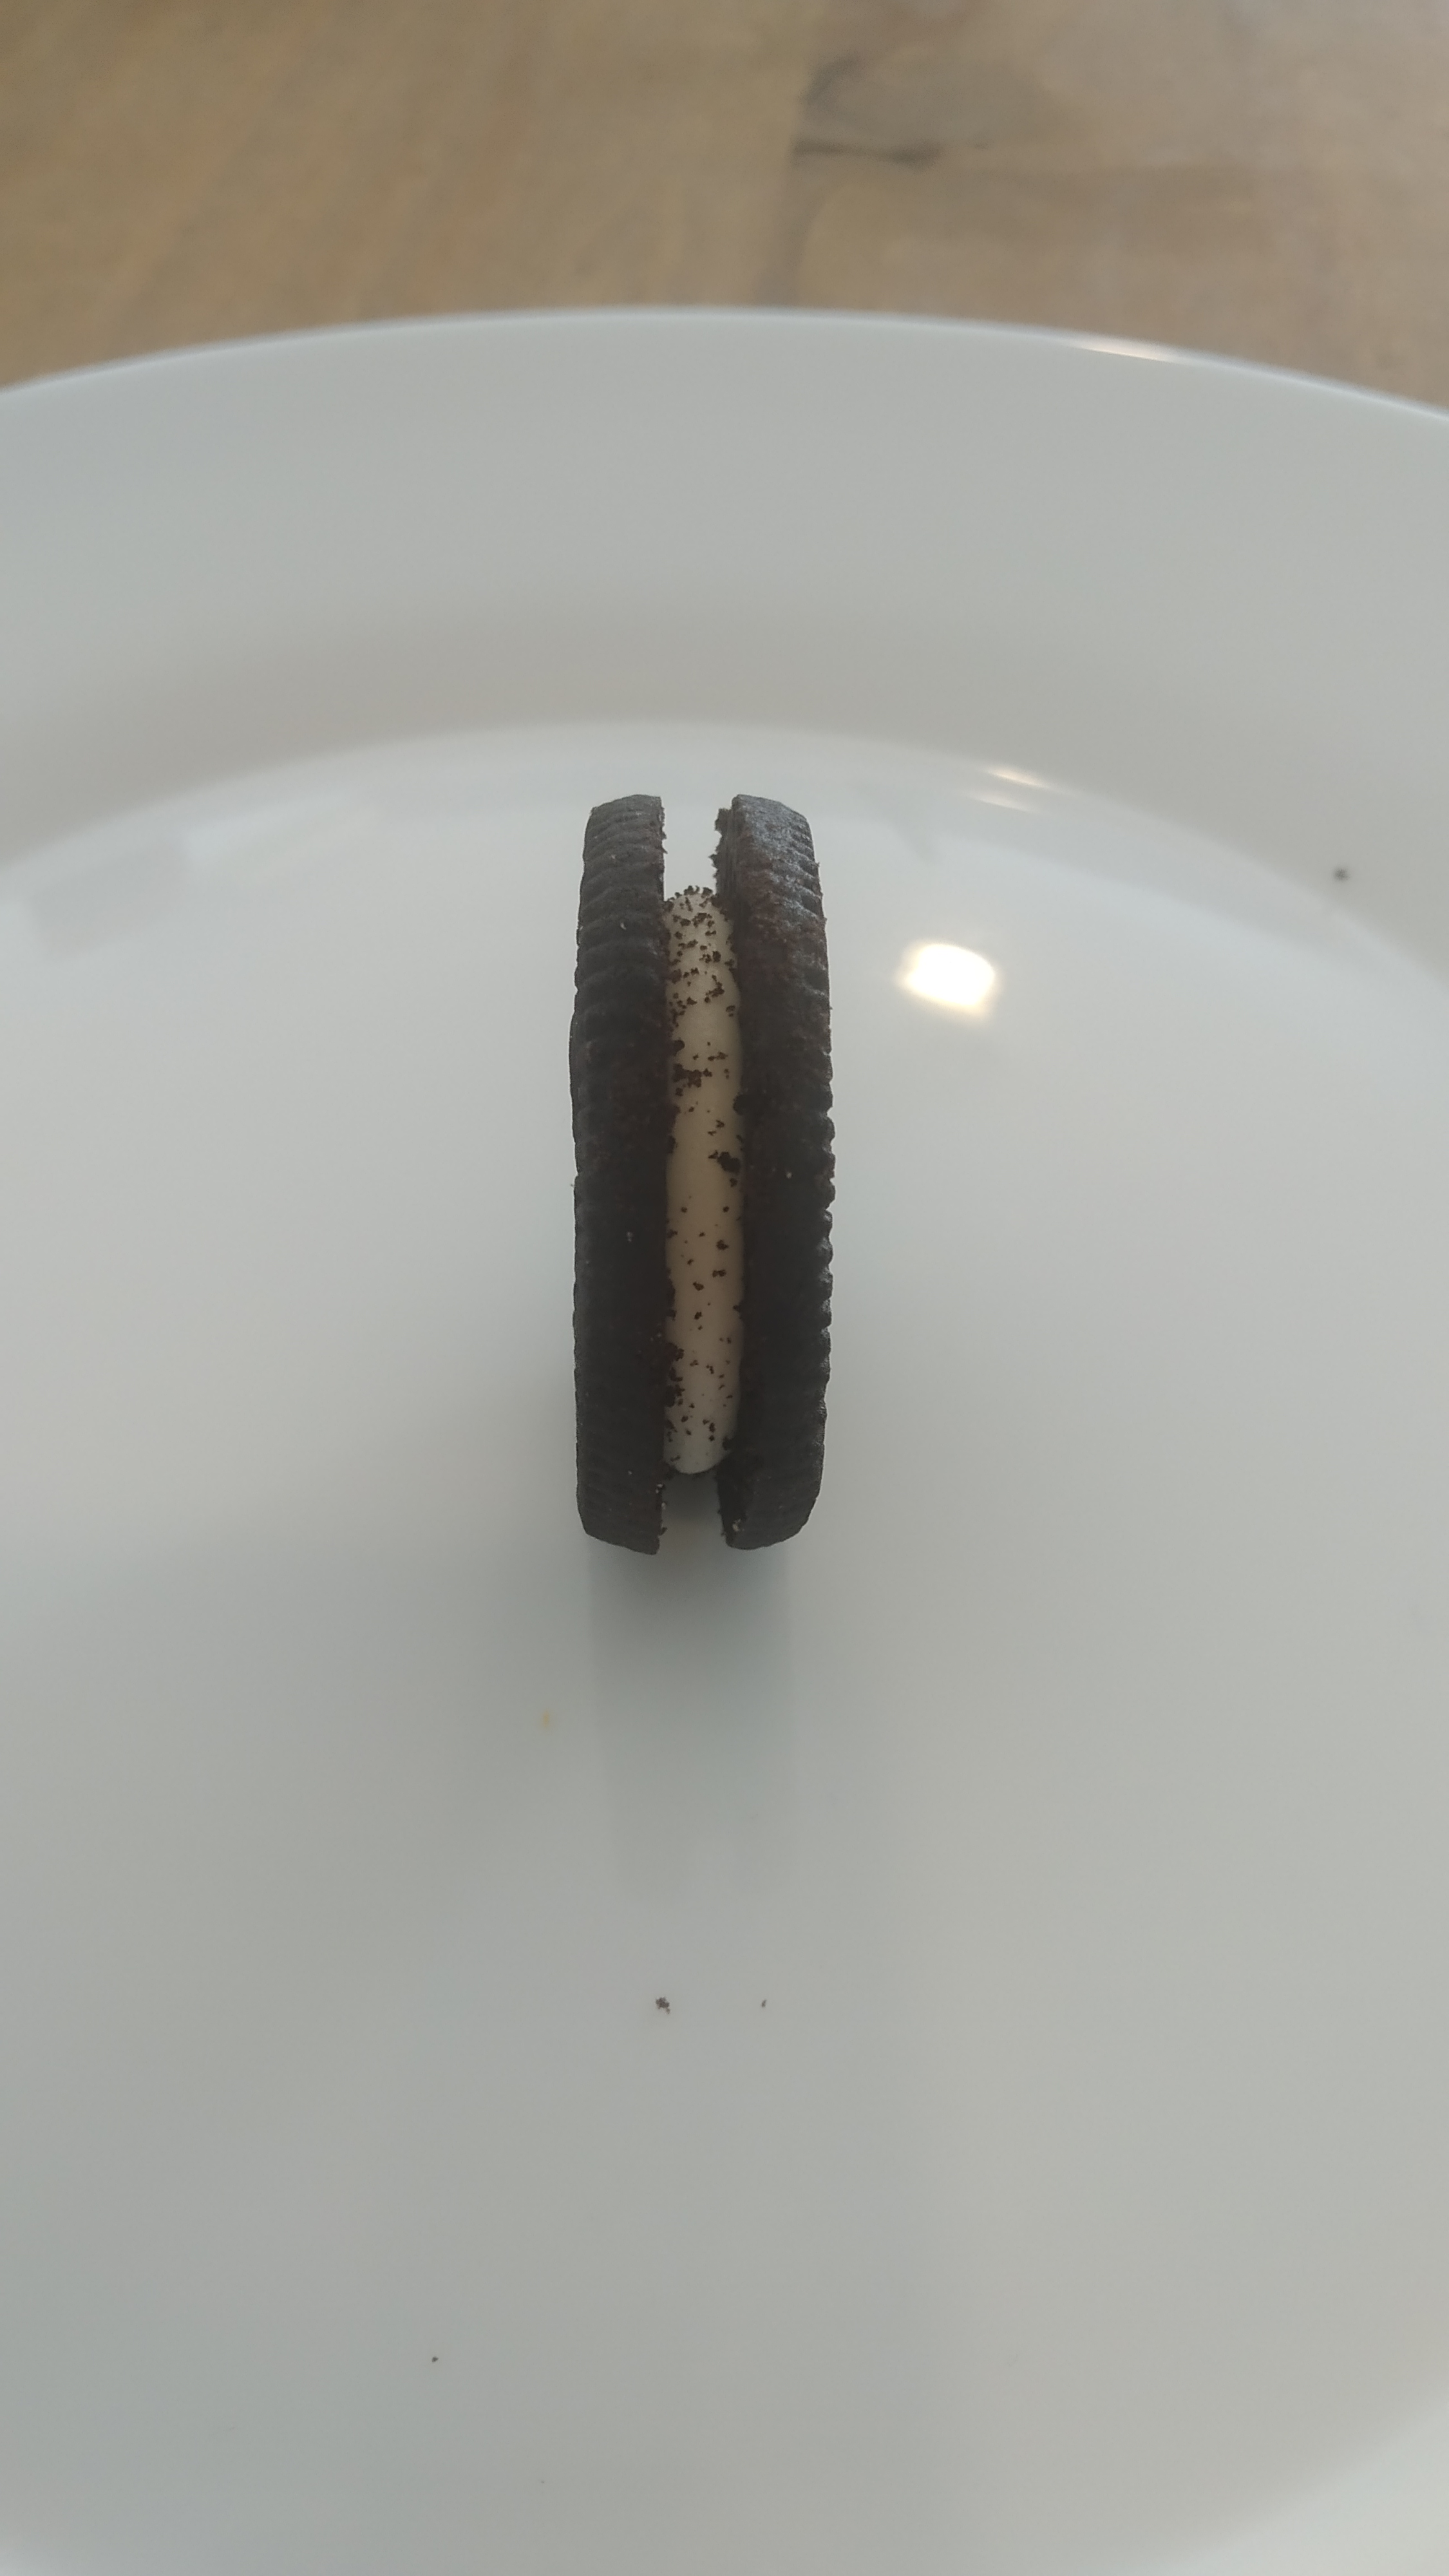oreo: (568, 791, 839, 1555)
